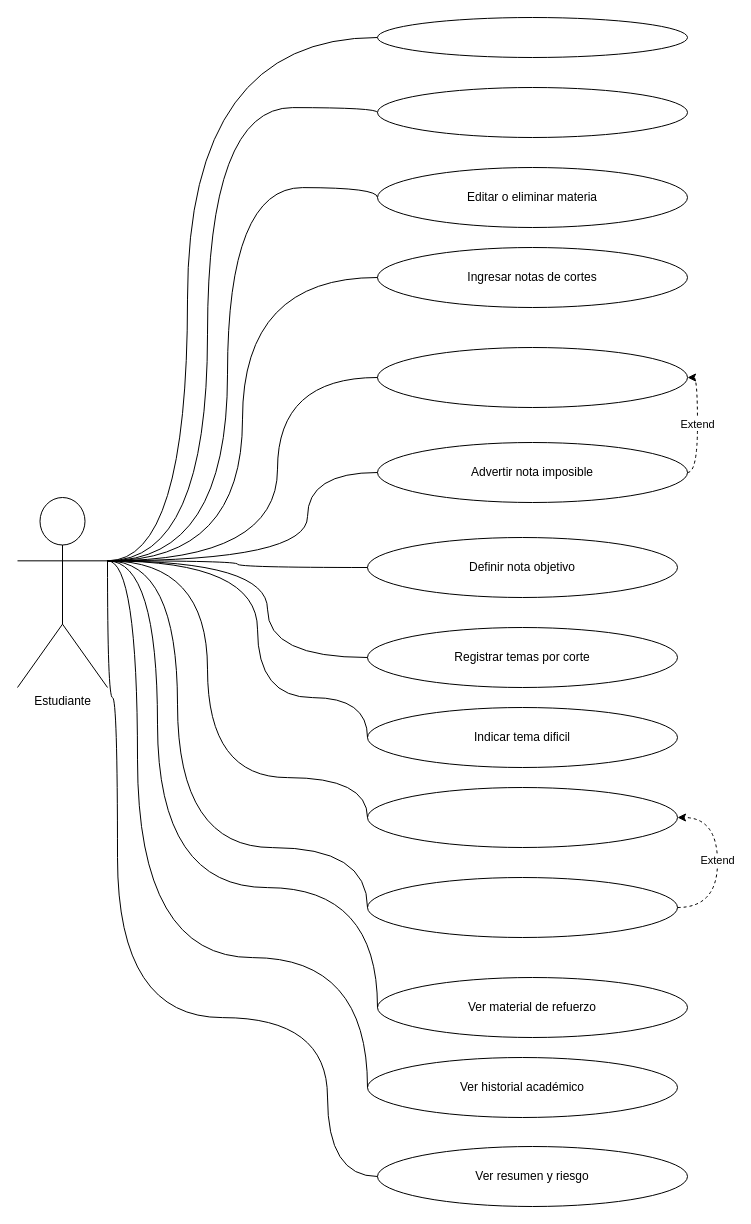
This 751x1224 diagram has some shape labels left out. Each missing label, with the centre of its shape:
"Calcular nota necesaria" belongs at pixel 532 377.
"Exportar taller a PDF" belongs at pixel 522 907.
"Generar taller de esfuerzo" belongs at pixel 522 817.
"Registrar materia" belongs at pixel 532 112.
"Registrarse y autenticarse" belongs at pixel 532 37.
